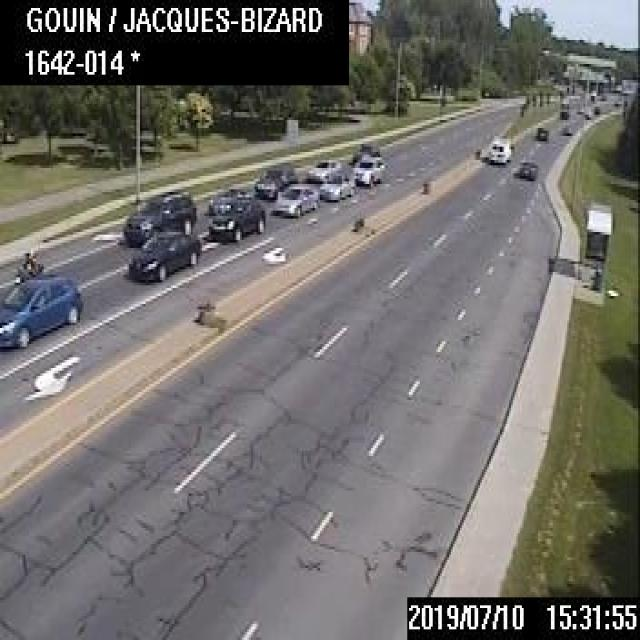vehicle: (0, 272, 82, 347), (122, 189, 196, 244), (126, 230, 199, 277), (206, 198, 264, 240), (270, 182, 318, 215), (253, 164, 297, 196), (206, 185, 252, 213), (12, 248, 42, 284), (317, 172, 353, 200), (352, 155, 384, 185), (306, 157, 340, 180), (351, 141, 379, 162), (487, 140, 511, 162), (520, 158, 536, 178), (535, 124, 547, 139), (558, 100, 567, 117), (560, 120, 570, 133)
